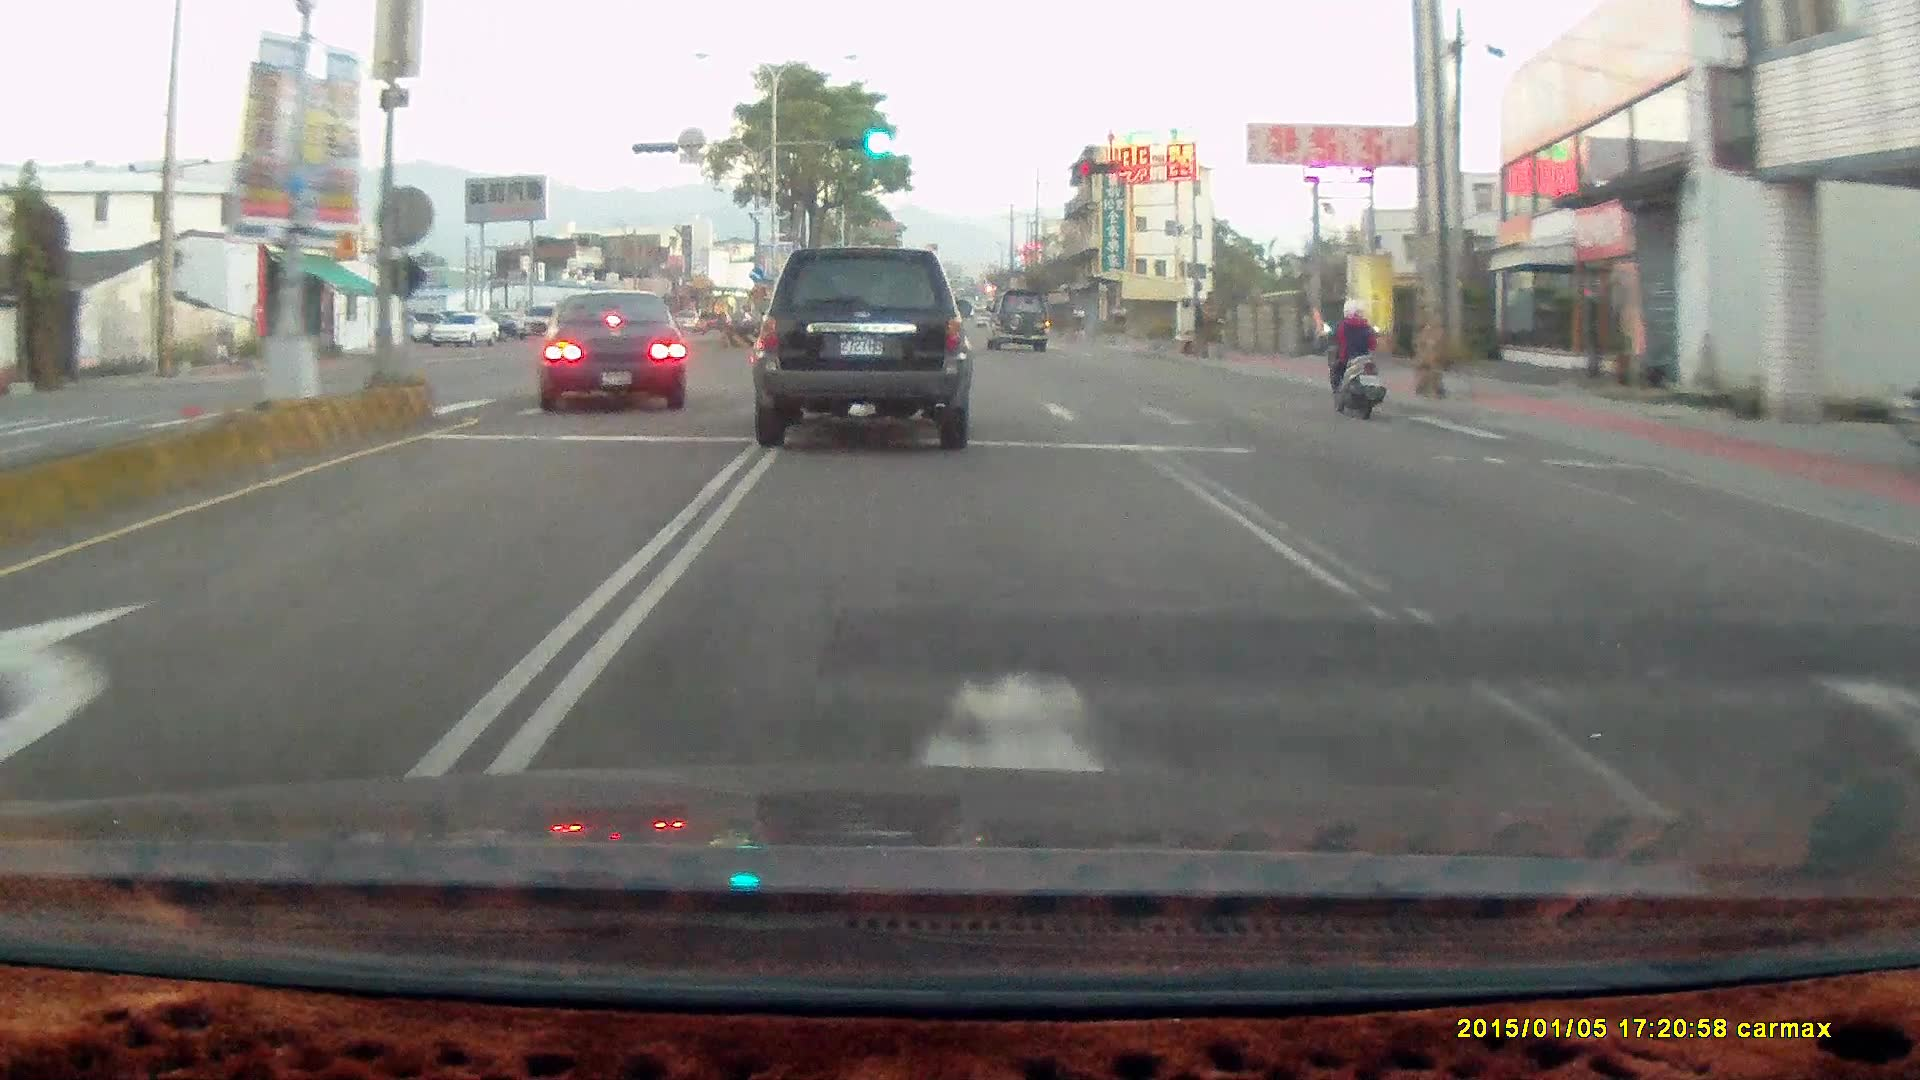rider: (1311, 289, 1399, 428), (1319, 297, 1385, 420)
vehicle: (743, 238, 978, 455), (750, 244, 973, 448), (533, 286, 692, 412), (529, 288, 687, 409), (988, 291, 1054, 356), (983, 284, 1049, 348), (430, 310, 500, 346), (516, 303, 582, 340)
